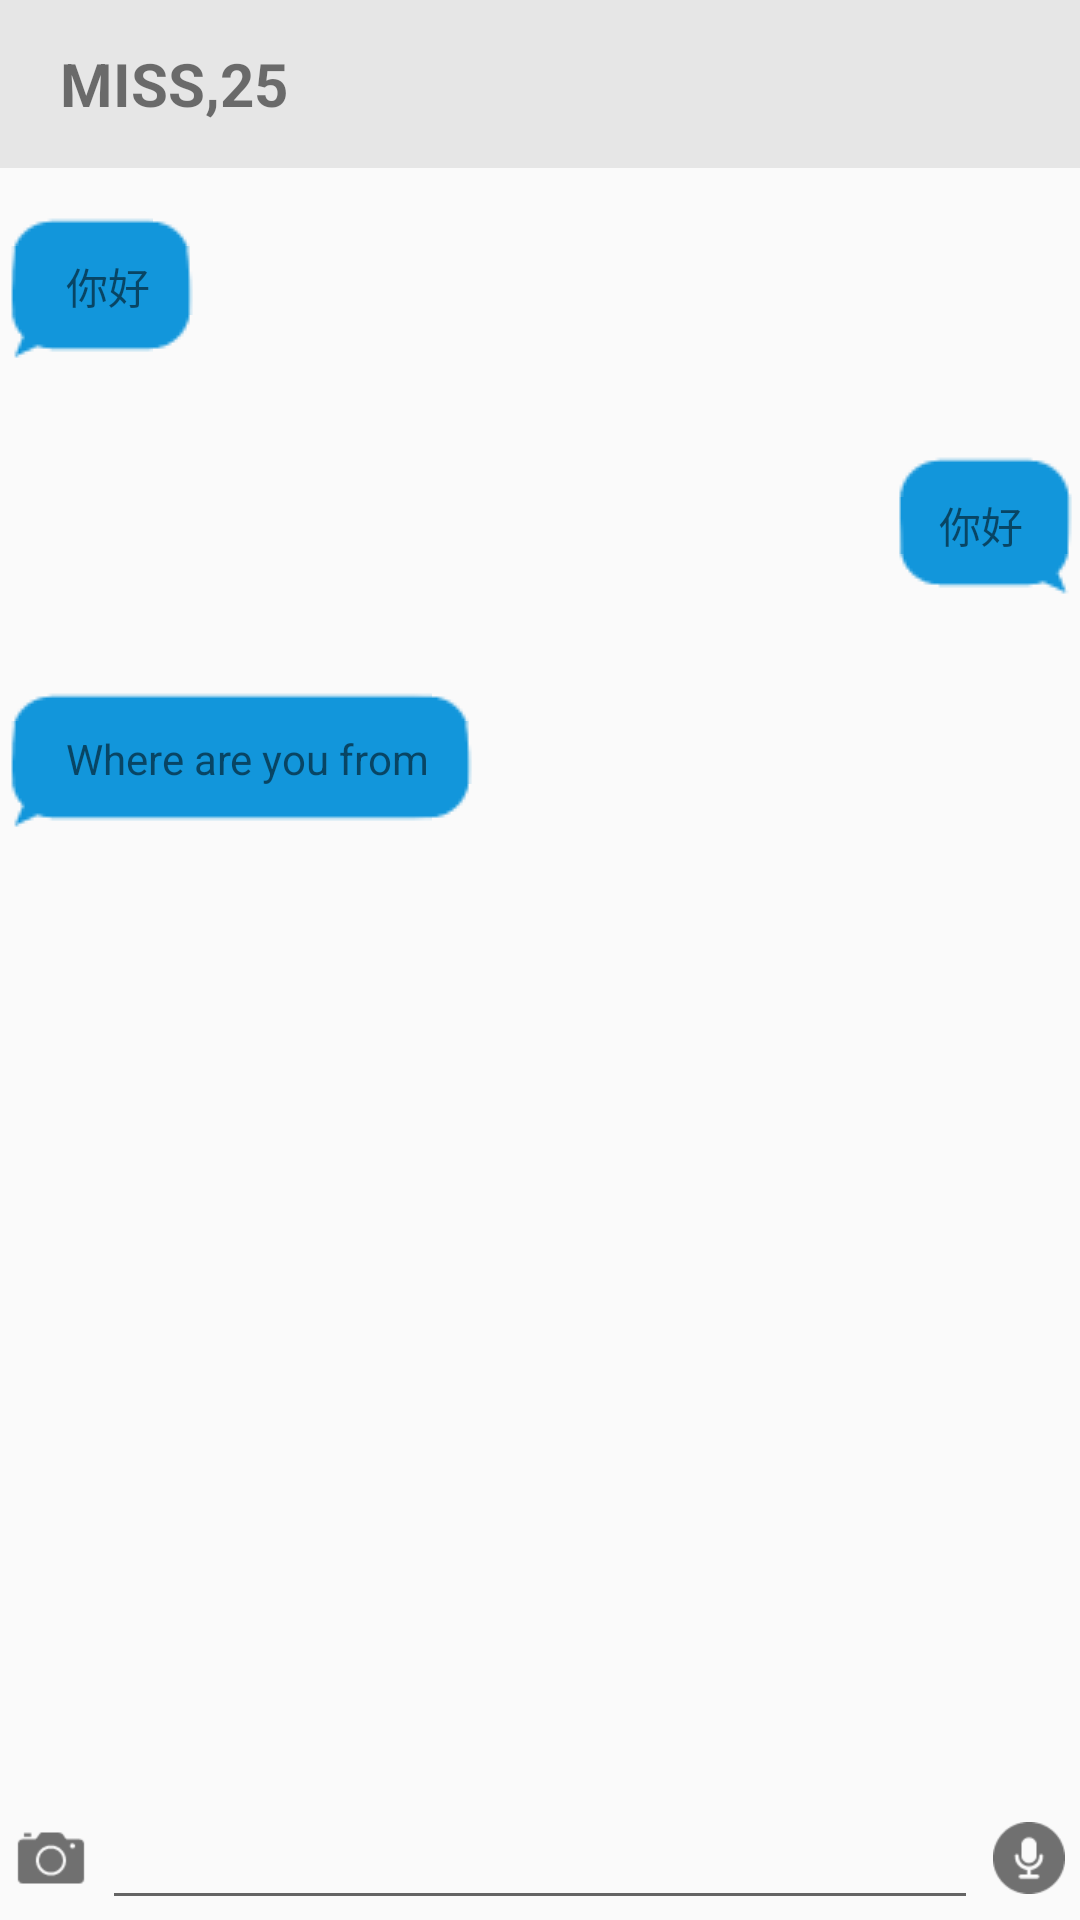

Icons on this 1080x1920 Android screen, each with the point to tap as (x,y):
camera: (51,1858)
yuyin: (1029,1858)
